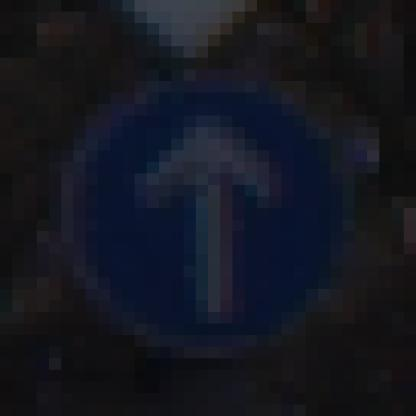AheadOnly: (62, 59, 356, 359)
